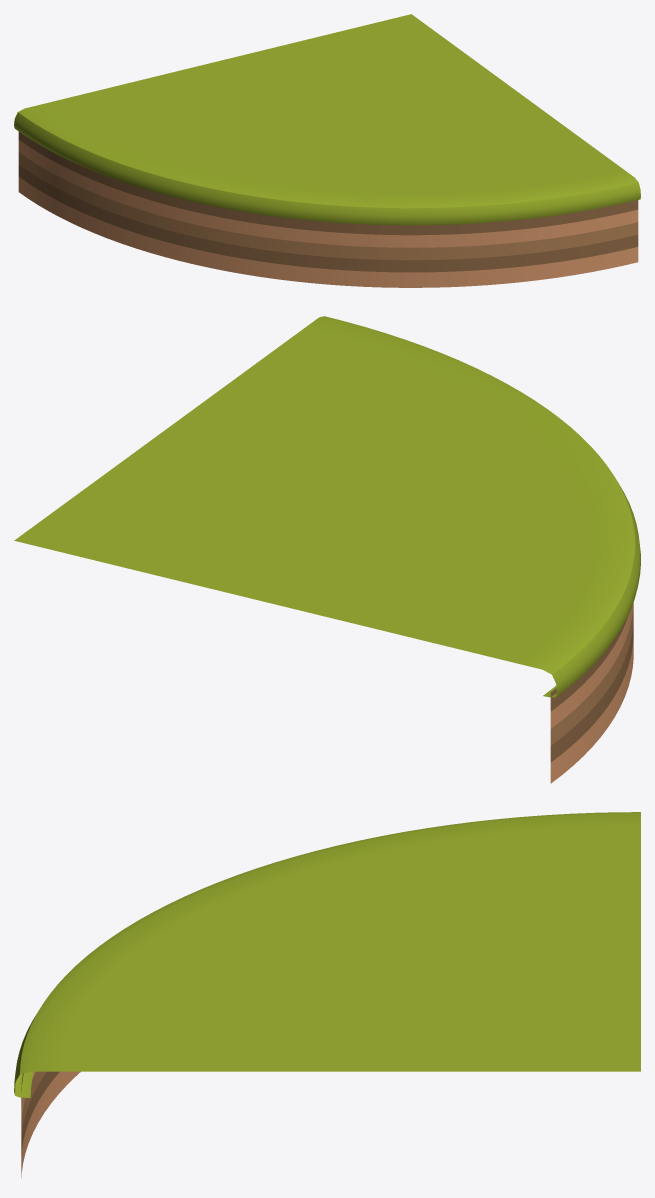
File: platform_grass_corner_round5_tall.gltf
The picture shows the model from 3 angles, top to bottom: view 1: azimuth 30°, elevation 25°; view 2: azimuth 150°, elevation 25°; view 3: azimuth 270°, elevation 25°; orthographic projection. The views are drawn at different scales.
Visible parts, largest first — view 1: Cube_Grass_Corner_Round5_Tall; view 2: Cube_Grass_Corner_Round5_Tall; view 3: Cube_Grass_Corner_Round5_Tall.
Boxes of the visible parts, <box> form: Cube_Grass_Corner_Round5_Tall: <box>14,14,640,287</box>; Cube_Grass_Corner_Round5_Tall: <box>14,316,640,783</box>; Cube_Grass_Corner_Round5_Tall: <box>14,812,640,1177</box>.
Bounding box in the file's own units: 10.12 × 2 × 10.12.
